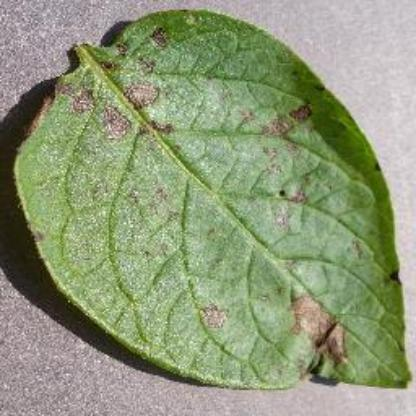Early-Blight: (11, 16, 408, 386)
